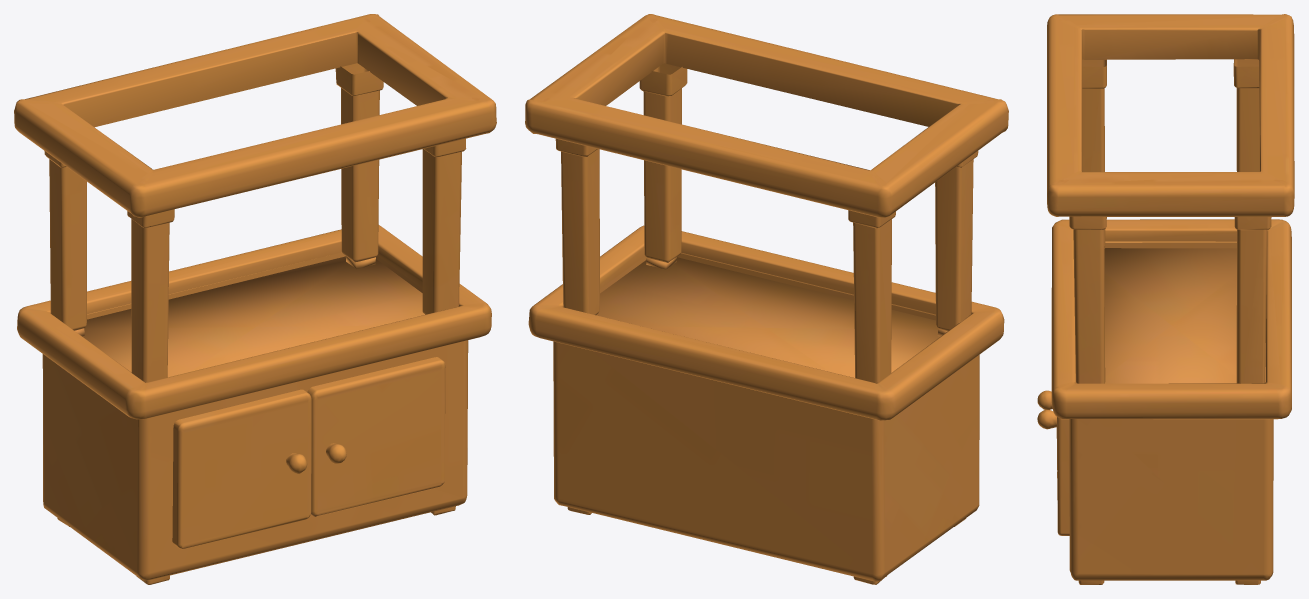
File: aquarium_stand.glb
The picture shows the model from 3 angles, left to right: view 1: azimuth 30°, elevation 25°; view 2: azimuth 150°, elevation 25°; view 3: azimuth 270°, elevation 25°; orthographic projection.
Size of the model in its own units: 0.9258 by 1 by 0.5685.
Materials: 1 (1 with a texture image).
